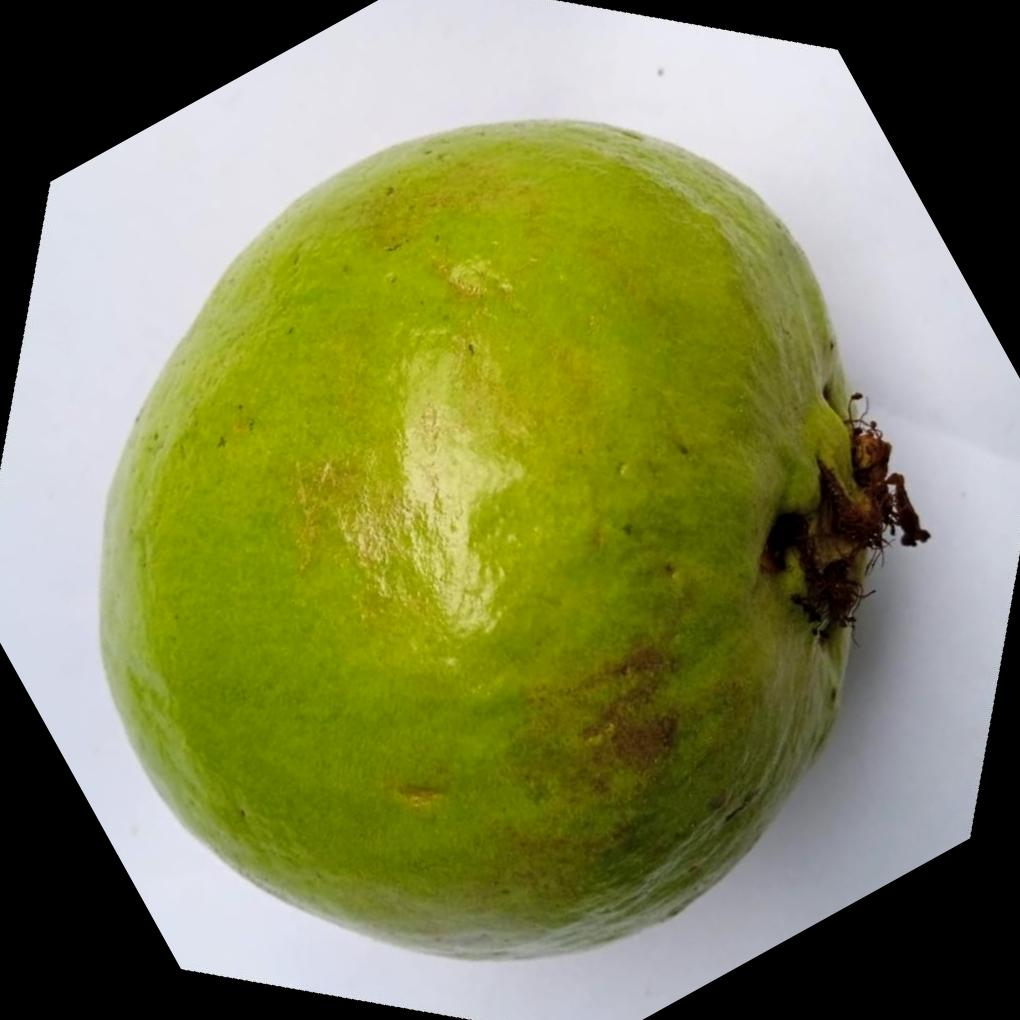FreshGuava: (95, 118, 929, 965)
